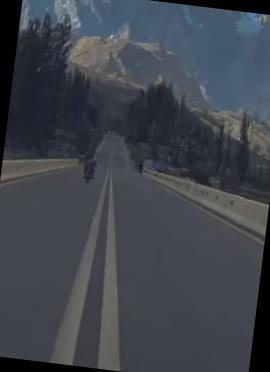sharp_turn: (6, 115, 198, 372)
